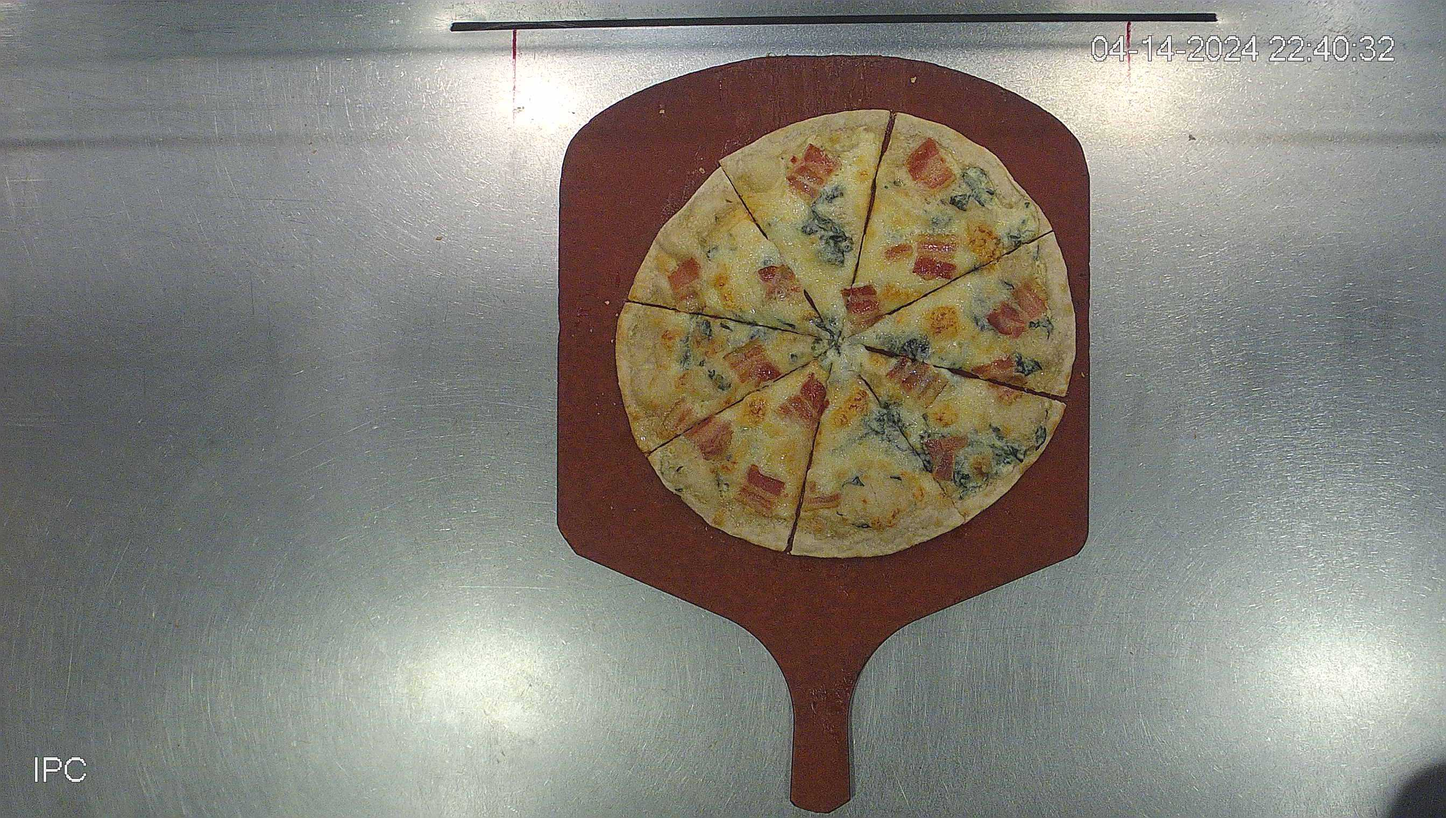pepporoni: (613, 109, 1076, 560)
